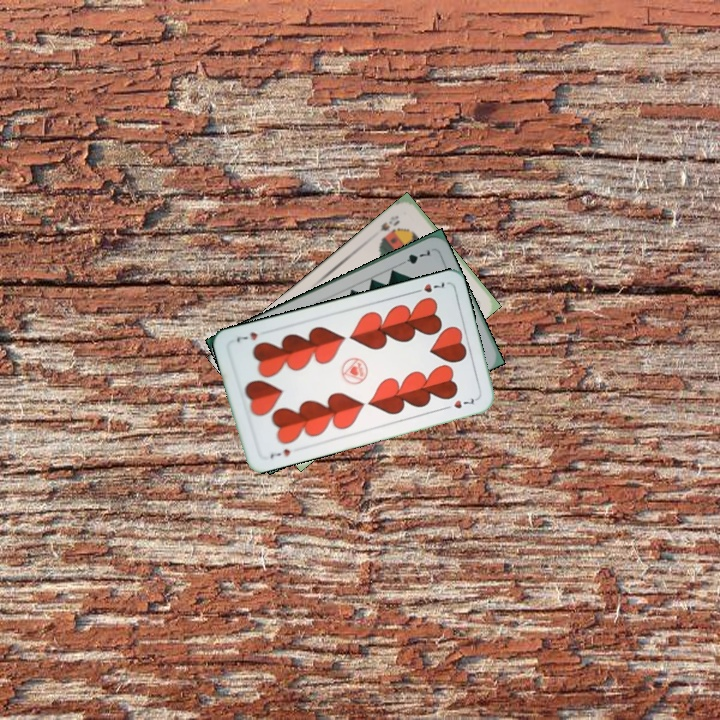G7: (395, 245, 433, 268)
H7: (409, 278, 449, 296), (266, 445, 293, 461)
SO: (376, 211, 402, 242)
